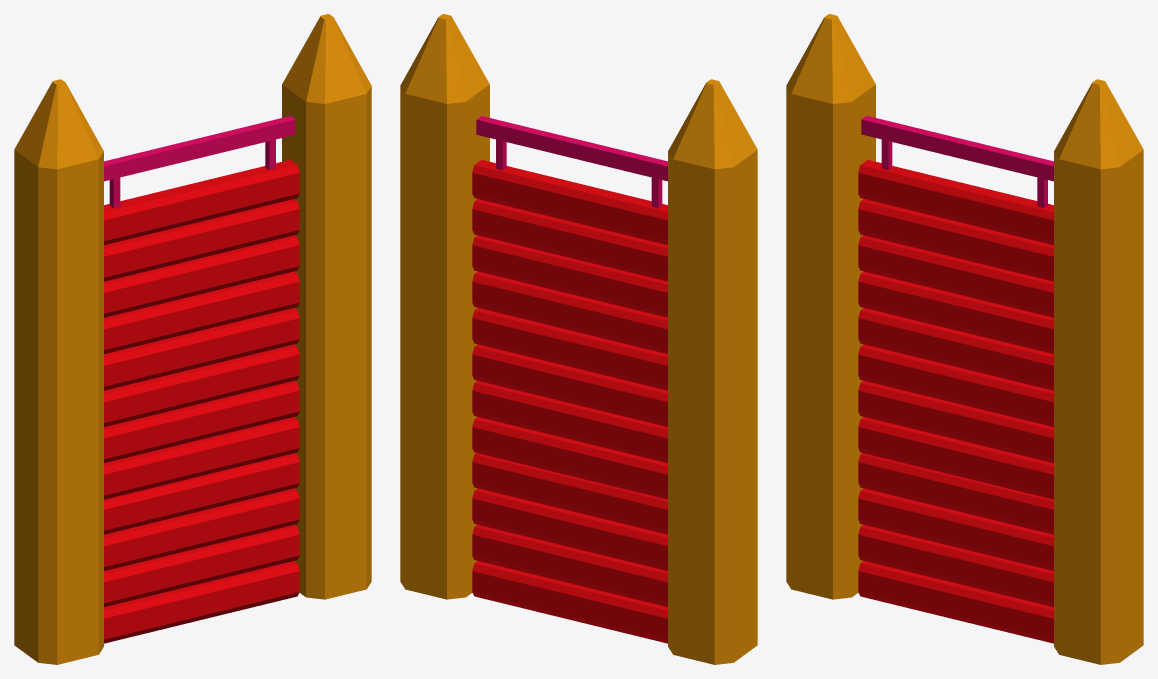
The model's file is WoodWall2.fbx.
The picture shows the model from 3 angles, left to right: view 1: azimuth 30°, elevation 25°; view 2: azimuth 150°, elevation 25°; view 3: azimuth 330°, elevation 25°; orthographic projection.
Visible parts, largest first — view 1: WoodWall2; view 2: WoodWall2; view 3: WoodWall2.
Boxes of the visible parts, x1,y1,x2,y2 form: WoodWall2: [14, 14, 371, 664]; WoodWall2: [400, 14, 757, 664]; WoodWall2: [786, 14, 1143, 664].
Size of the model in its own units: 204 by 332 by 40.09.
